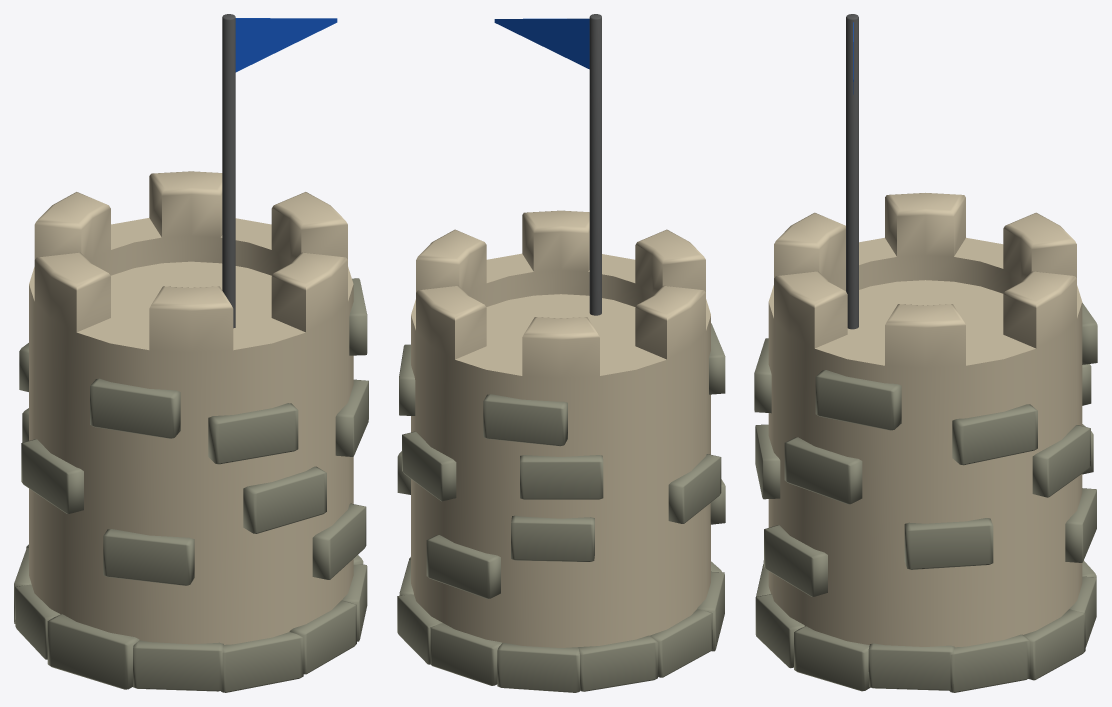
The model's file is ArcherTower_Level2_BlueTeam.glb.
The picture shows the model from 3 angles, left to right: view 1: azimuth 30°, elevation 25°; view 2: azimuth 150°, elevation 25°; view 3: azimuth 270°, elevation 25°; orthographic projection. The views are drawn at different scales.
Visible parts, largest first — view 1: ArcherTower_Level2_BlueTeam, BlueFlag; view 2: ArcherTower_Level2_BlueTeam, BlueFlag; view 3: ArcherTower_Level2_BlueTeam.
Boxes of the visible parts, <box> form: ArcherTower_Level2_BlueTeam: <box>14,14,368,692</box>; BlueFlag: <box>235,18,337,72</box>; ArcherTower_Level2_BlueTeam: <box>397,14,725,692</box>; BlueFlag: <box>494,18,589,69</box>; ArcherTower_Level2_BlueTeam: <box>754,14,1097,692</box>.
Size of the model in its own units: 13.16 by 25.76 by 13.12.
